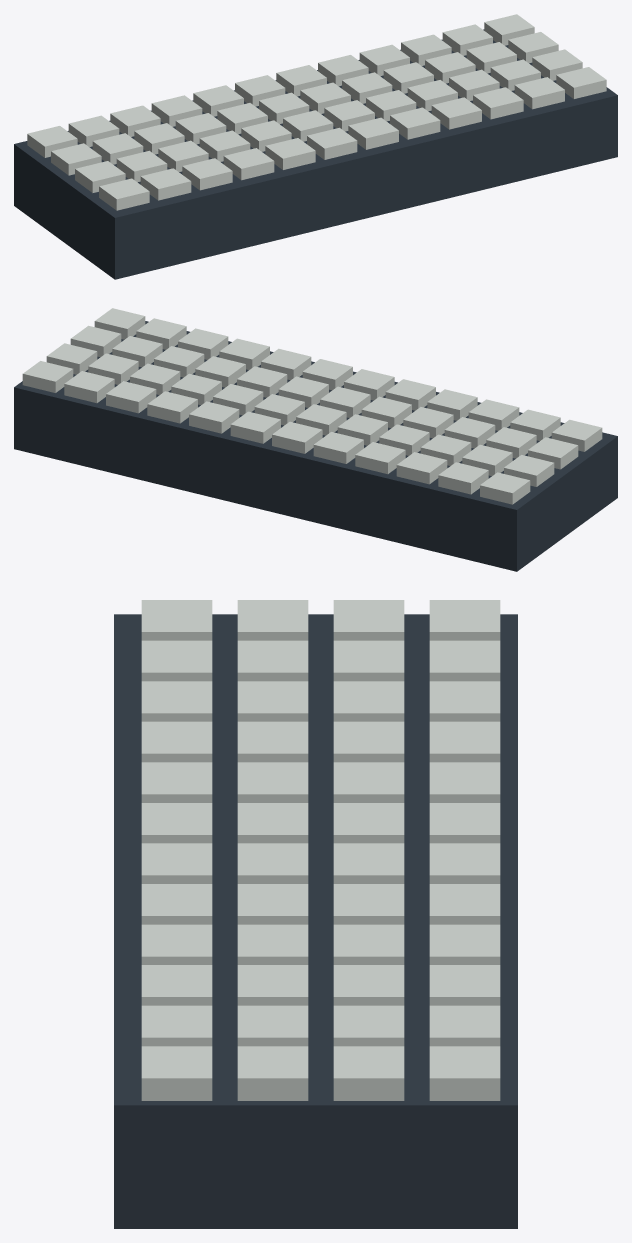
The model's file is keyboard.glb.
The picture shows the model from 3 angles, top to bottom: view 1: azimuth 30°, elevation 25°; view 2: azimuth 150°, elevation 25°; view 3: azimuth 270°, elevation 25°; orthographic projection. The views are drawn at different scales.
Parts seen in each view (by area): view 1: keyboard; view 2: keyboard; view 3: keyboard.
Boxes of the visible parts, x1=… form: keyboard: x1=14, y1=14, x2=617, y2=279; keyboard: x1=14, y1=308, x2=617, y2=571; keyboard: x1=114, y1=600, x2=517, y2=1228.
Size of the model in its own units: 0.46 by 0.064 by 0.16.
